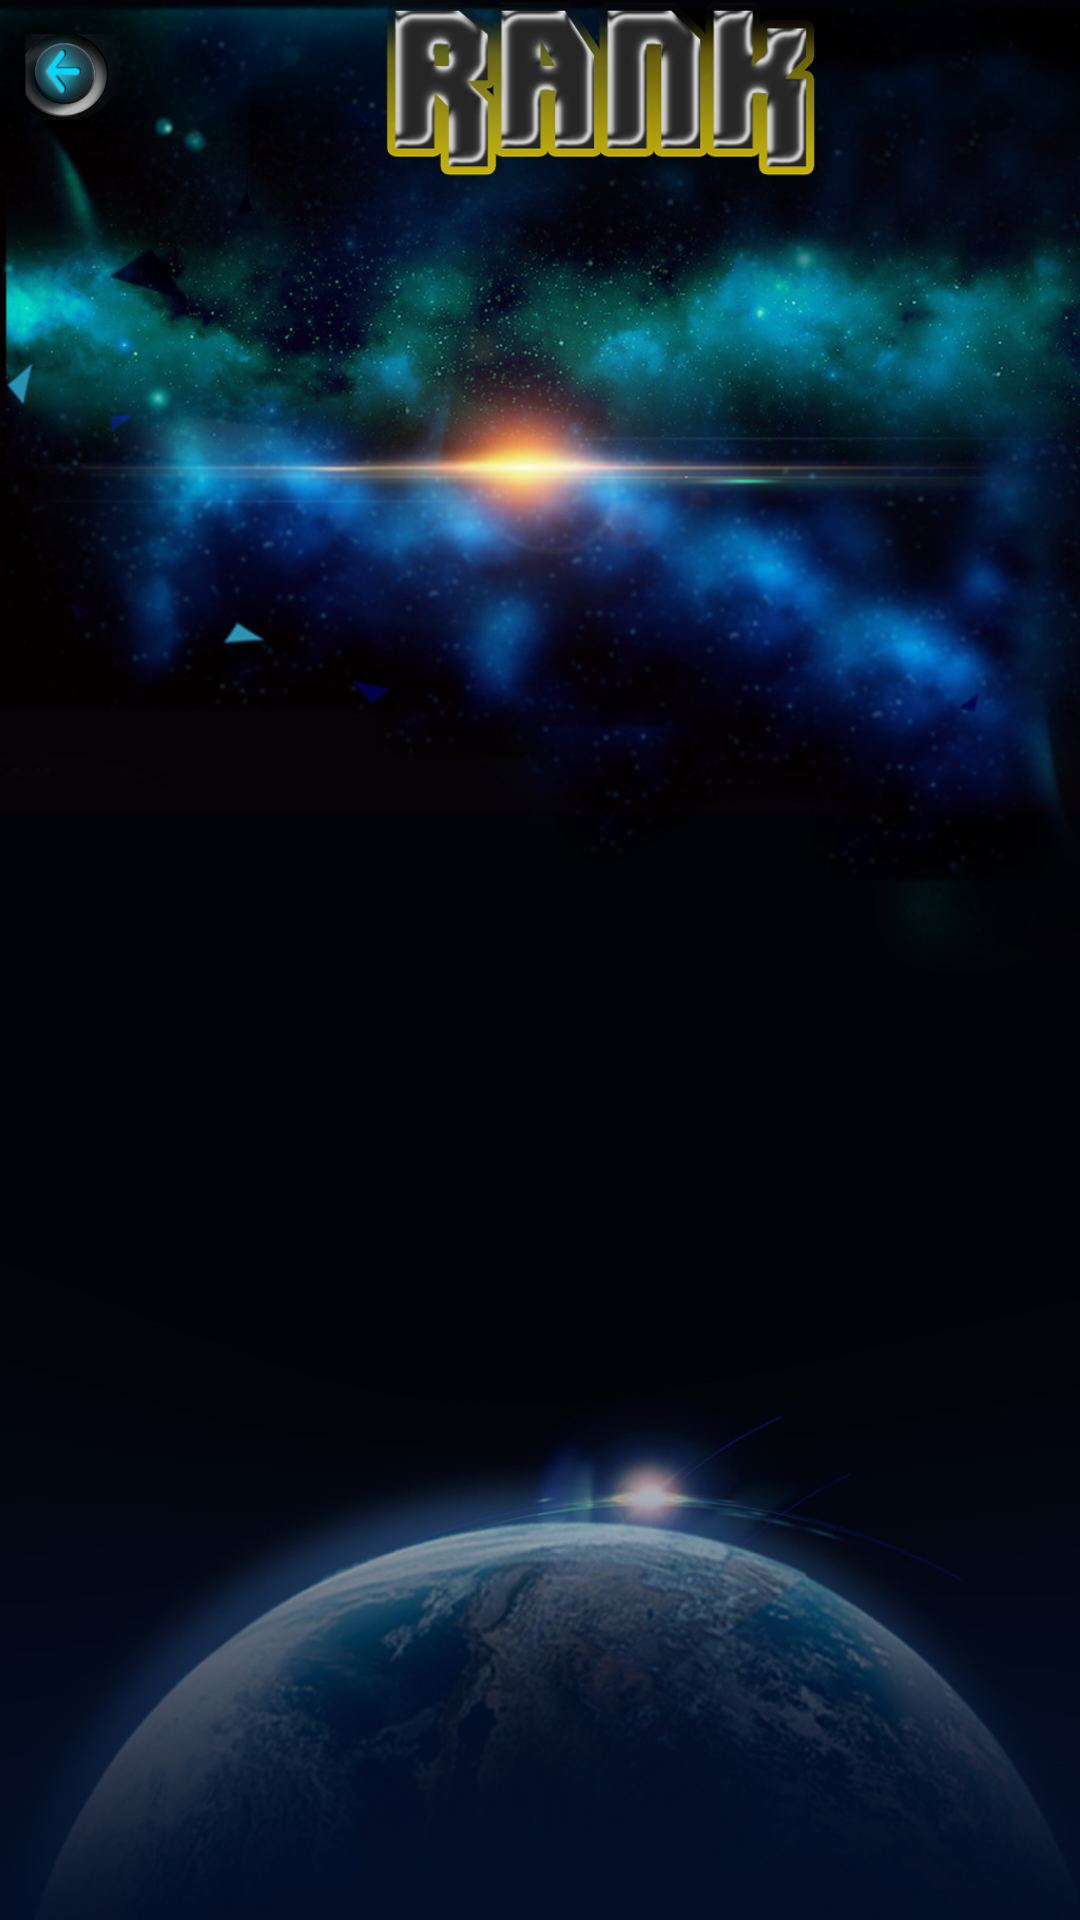

Point at icon controls on the screen. Image size 1080w x 1920h, points as point (x, y).
backbutton: point (71, 66)
